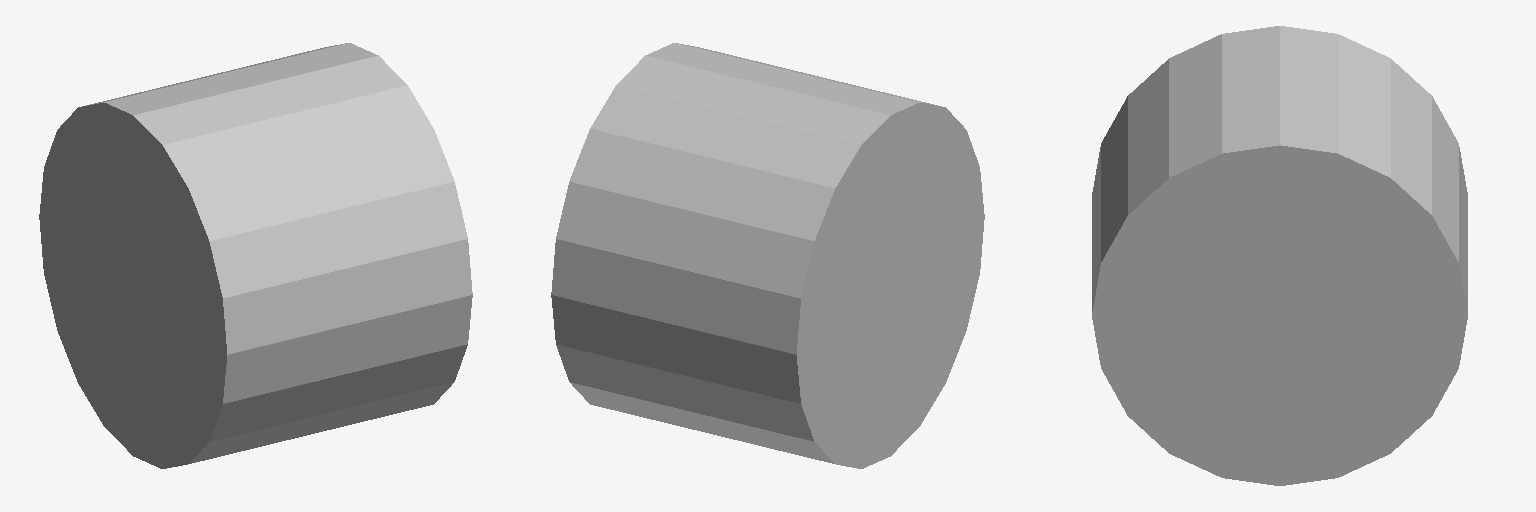
The model's file is Resaltado_Auriculotemporal_D_1.obj.
The picture shows the model from 3 angles: view 1: azimuth 30°, elevation 25°; view 2: azimuth 150°, elevation 25°; view 3: azimuth 270°, elevation 25°; orthographic projection.
Visible parts, largest first — view 1: polySurface8 Marcadores1; view 2: polySurface8 Marcadores1; view 3: polySurface8 Marcadores1.
Boxes of the visible parts, x1=… form: polySurface8 Marcadores1: x1=39, y1=43, x2=472, y2=468; polySurface8 Marcadores1: x1=551, y1=43, x2=984, y2=468; polySurface8 Marcadores1: x1=1092, y1=26, x2=1467, y2=485.
Size of the model in its own units: 0.021 by 0.0279 by 0.0279.